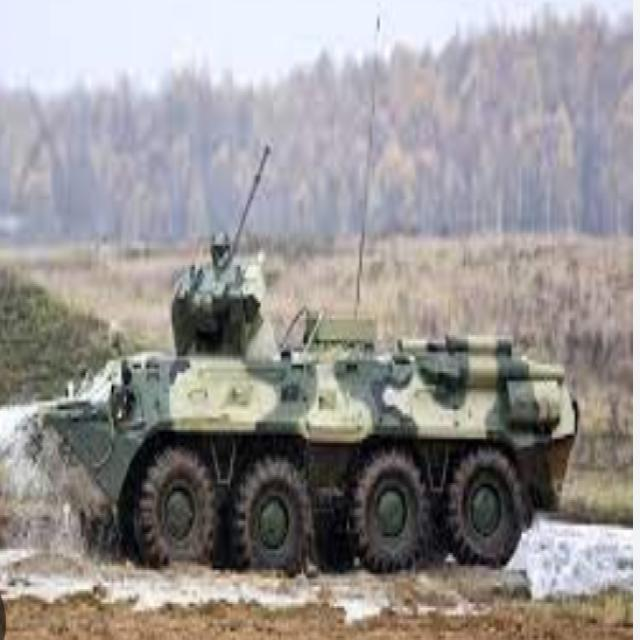MIL_APC: (32, 250, 592, 590)
